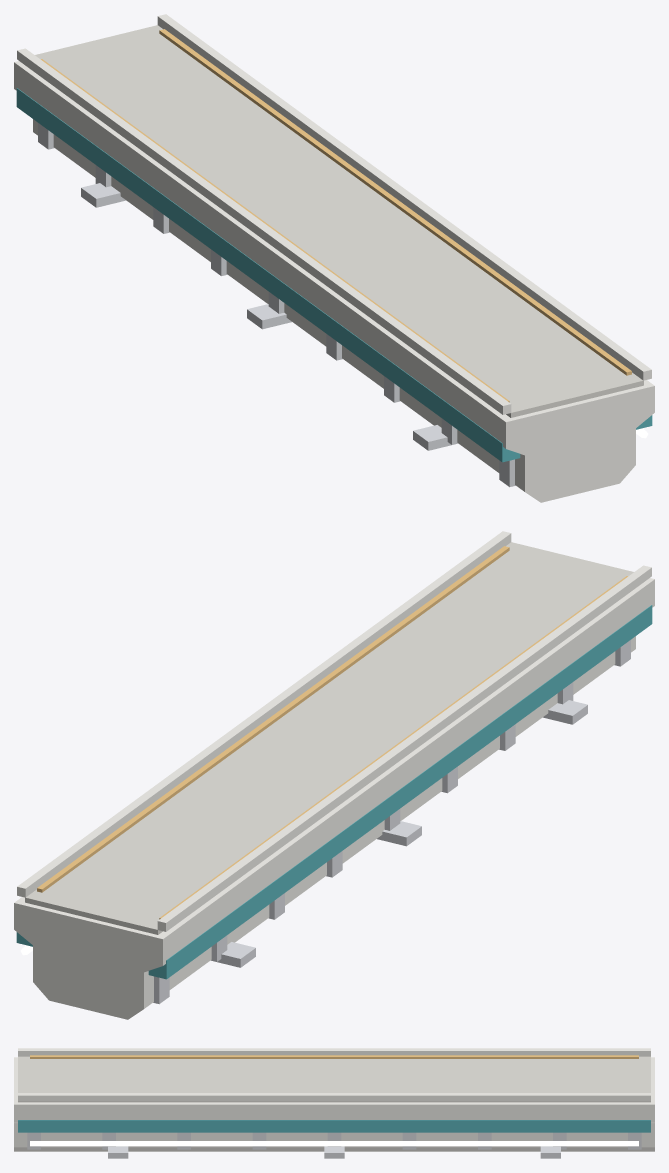
The model's file is arcology-towers-and-skyways-maglev-guideway-straight-85eea8ff__23254.glb.
The picture shows the model from 3 angles, top to bottom: view 1: azimuth 30°, elevation 25°; view 2: azimuth 150°, elevation 25°; view 3: azimuth 270°, elevation 25°; orthographic projection. The views are drawn at different scales.
Visible parts, largest first — view 1: maglev-guideway-straight; view 2: maglev-guideway-straight; view 3: maglev-guideway-straight.
Part boxes in pixels (<box>): maglev-guideway-straight: <box>14,14,654,502</box>; maglev-guideway-straight: <box>14,531,654,1019</box>; maglev-guideway-straight: <box>14,1048,654,1158</box>.
Bounding box in the file's own units: 3.01 × 1.85 × 16.
